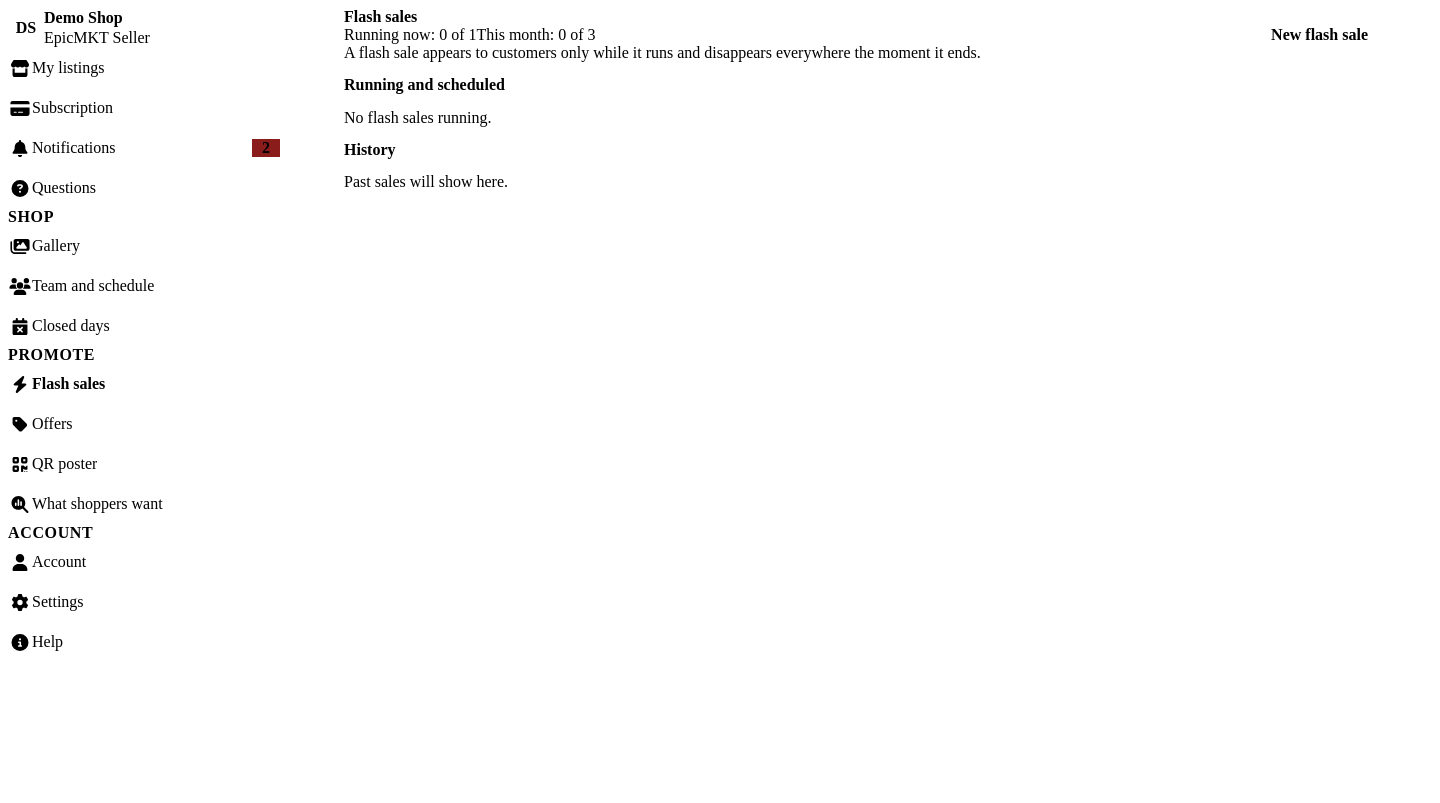
Scenario: flash sale per option (seller) › Black only: only that option is on sale, with its own discount
Later steps or results of the test are not shown.
Click the button "New flash sale" at (1320, 35), box [1271,26,1368,44]
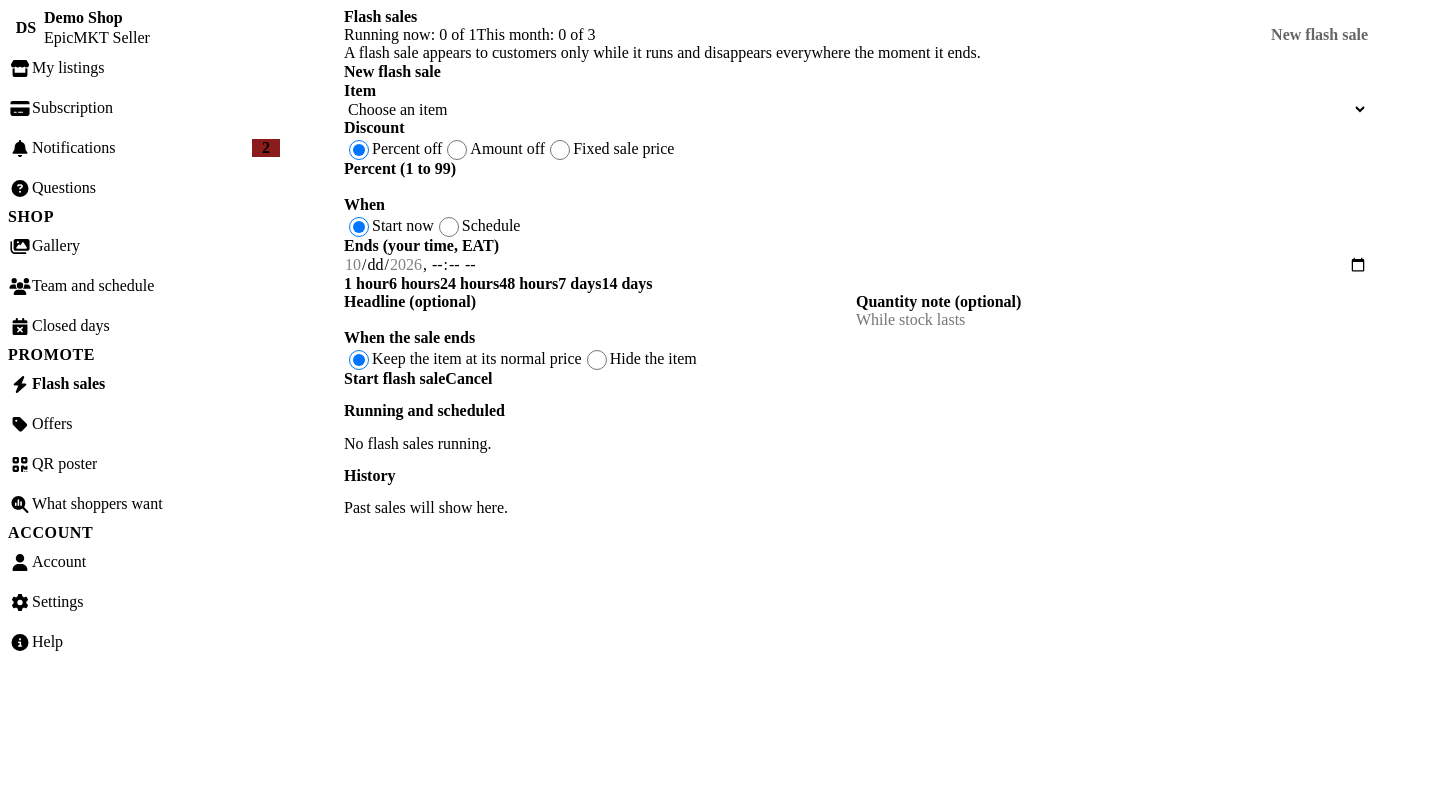
Select "Fade cut (KES 500)" in the dropdown labelled "Item" at (856, 110), box [344,100,1368,119]
Type "10" into the number field labelled "Percent (1 to 99)" at (856, 187), box [344,178,1368,196]
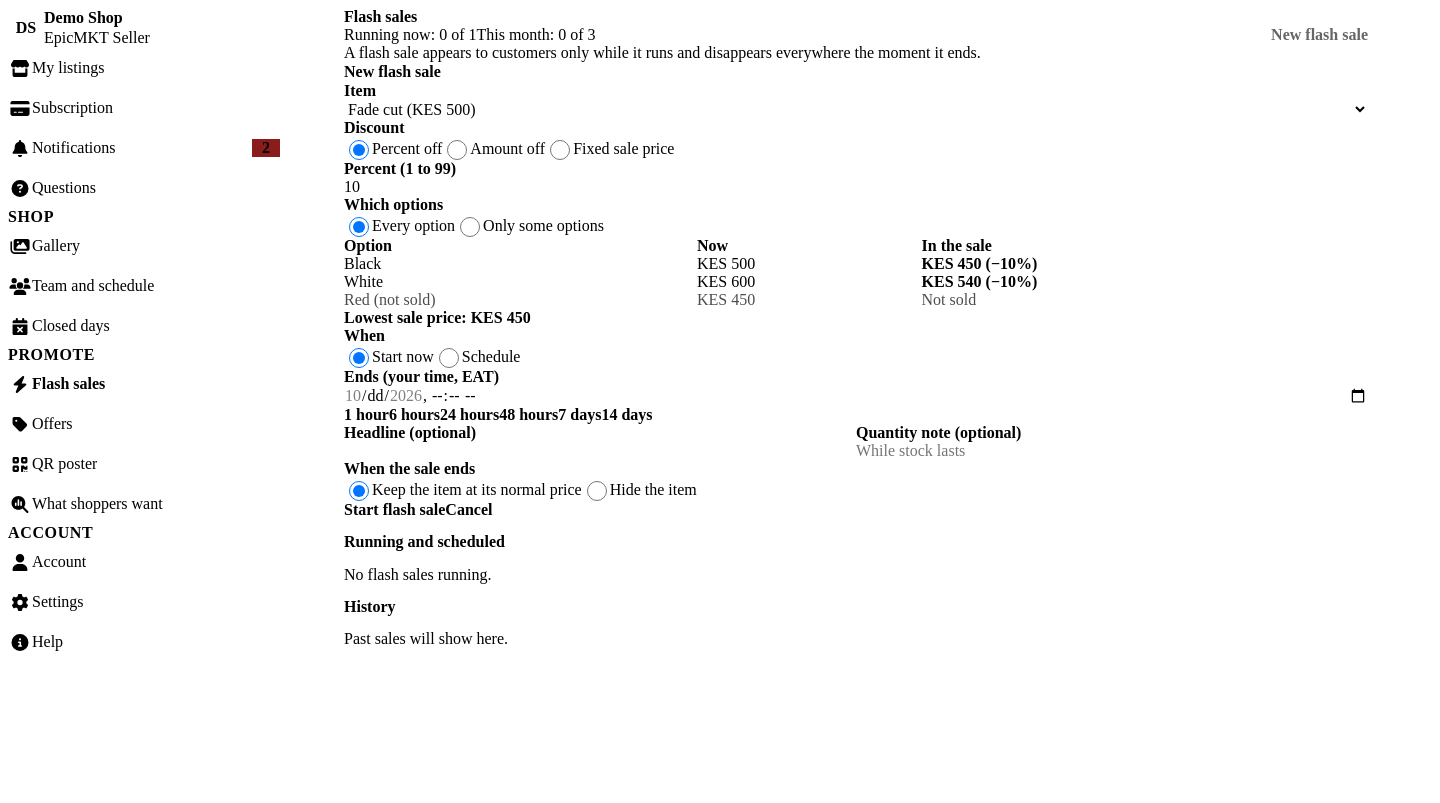
Click the radio button labelled "Only some options" at (470, 227), box [460,217,480,237]
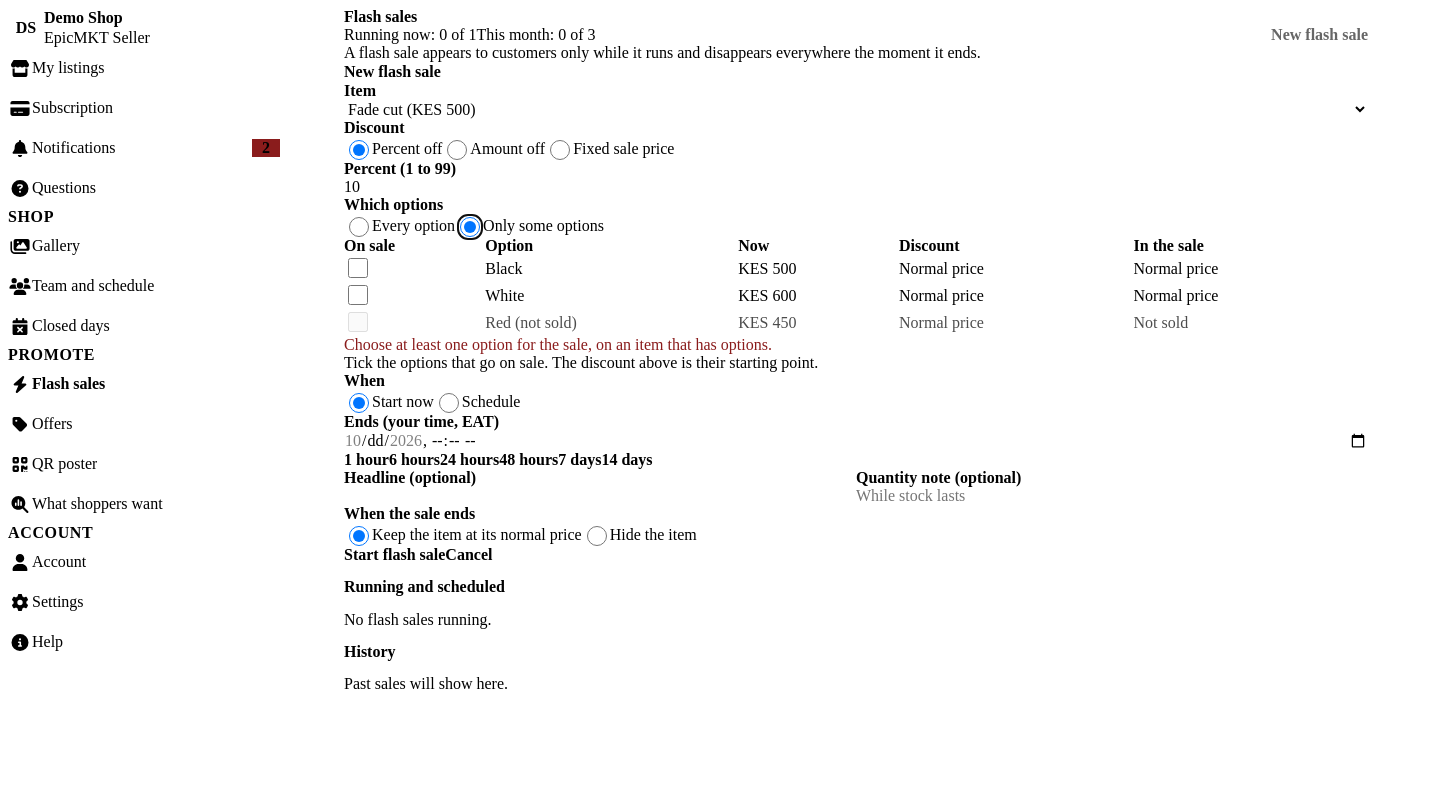
Check: the text "Tick the options that go on sale" is shown, box [344,354,818,371]
Click the checkbox named "Put Black on sale" at (358, 268), box [348,258,368,278]
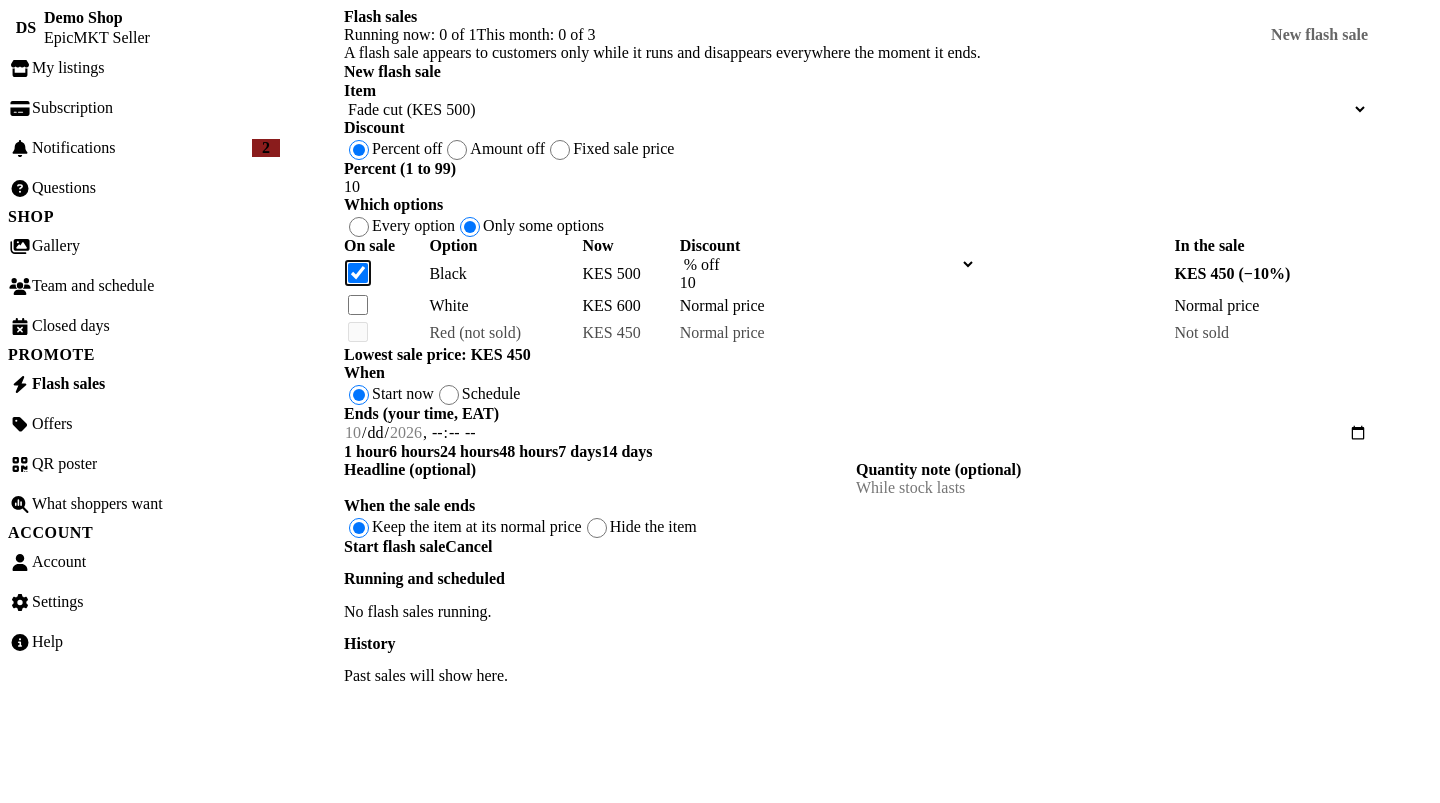
Check: the checkbox named "Put Red on sale" is disabled, box [348,322,368,342]
Select "KES off" in the dropdown named "Discount type for Black" at (828, 264), box [680,255,976,274]
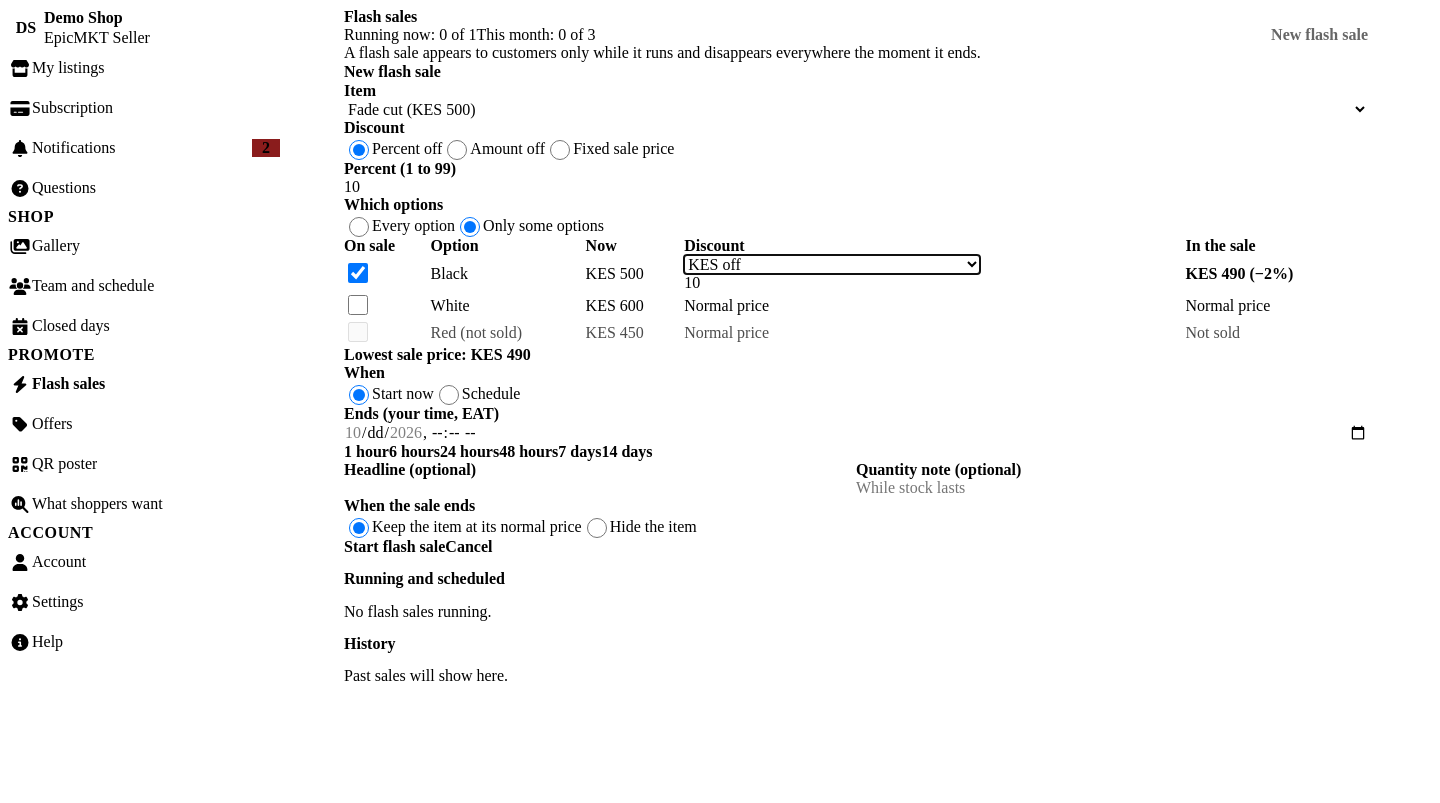
Replace the text in the number field named "Discount for Black" with "100" at (832, 283), box [684,274,980,292]
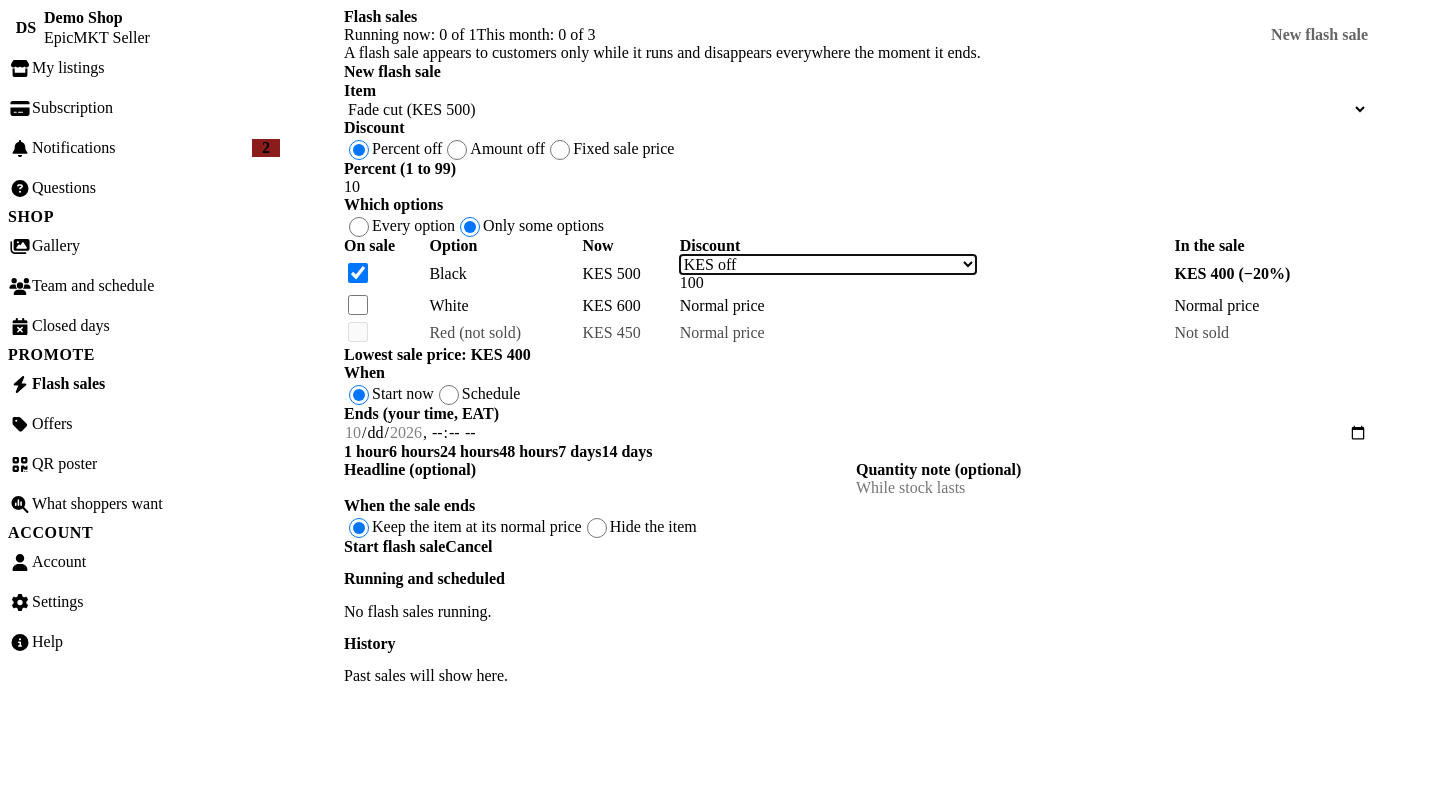
Check: the cell with test id "fs-after-colour=white" reads "Normal price", box [1174,296,1259,314]
Check: the cell with test id "fs-after-colour=black" shows "KES 400", box [1174,264,1234,282]
Check: the text with test id "fs-lowest" shows "KES 400", box [471,346,531,363]
